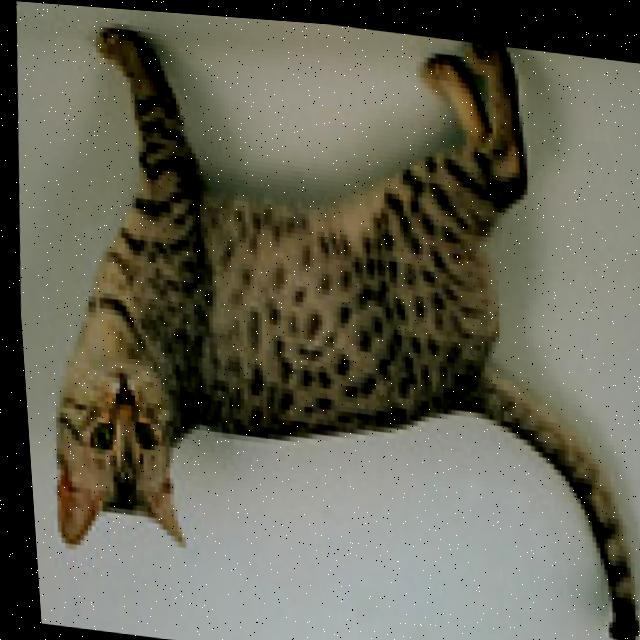Egyptian Mau: (12, 1, 640, 640)
